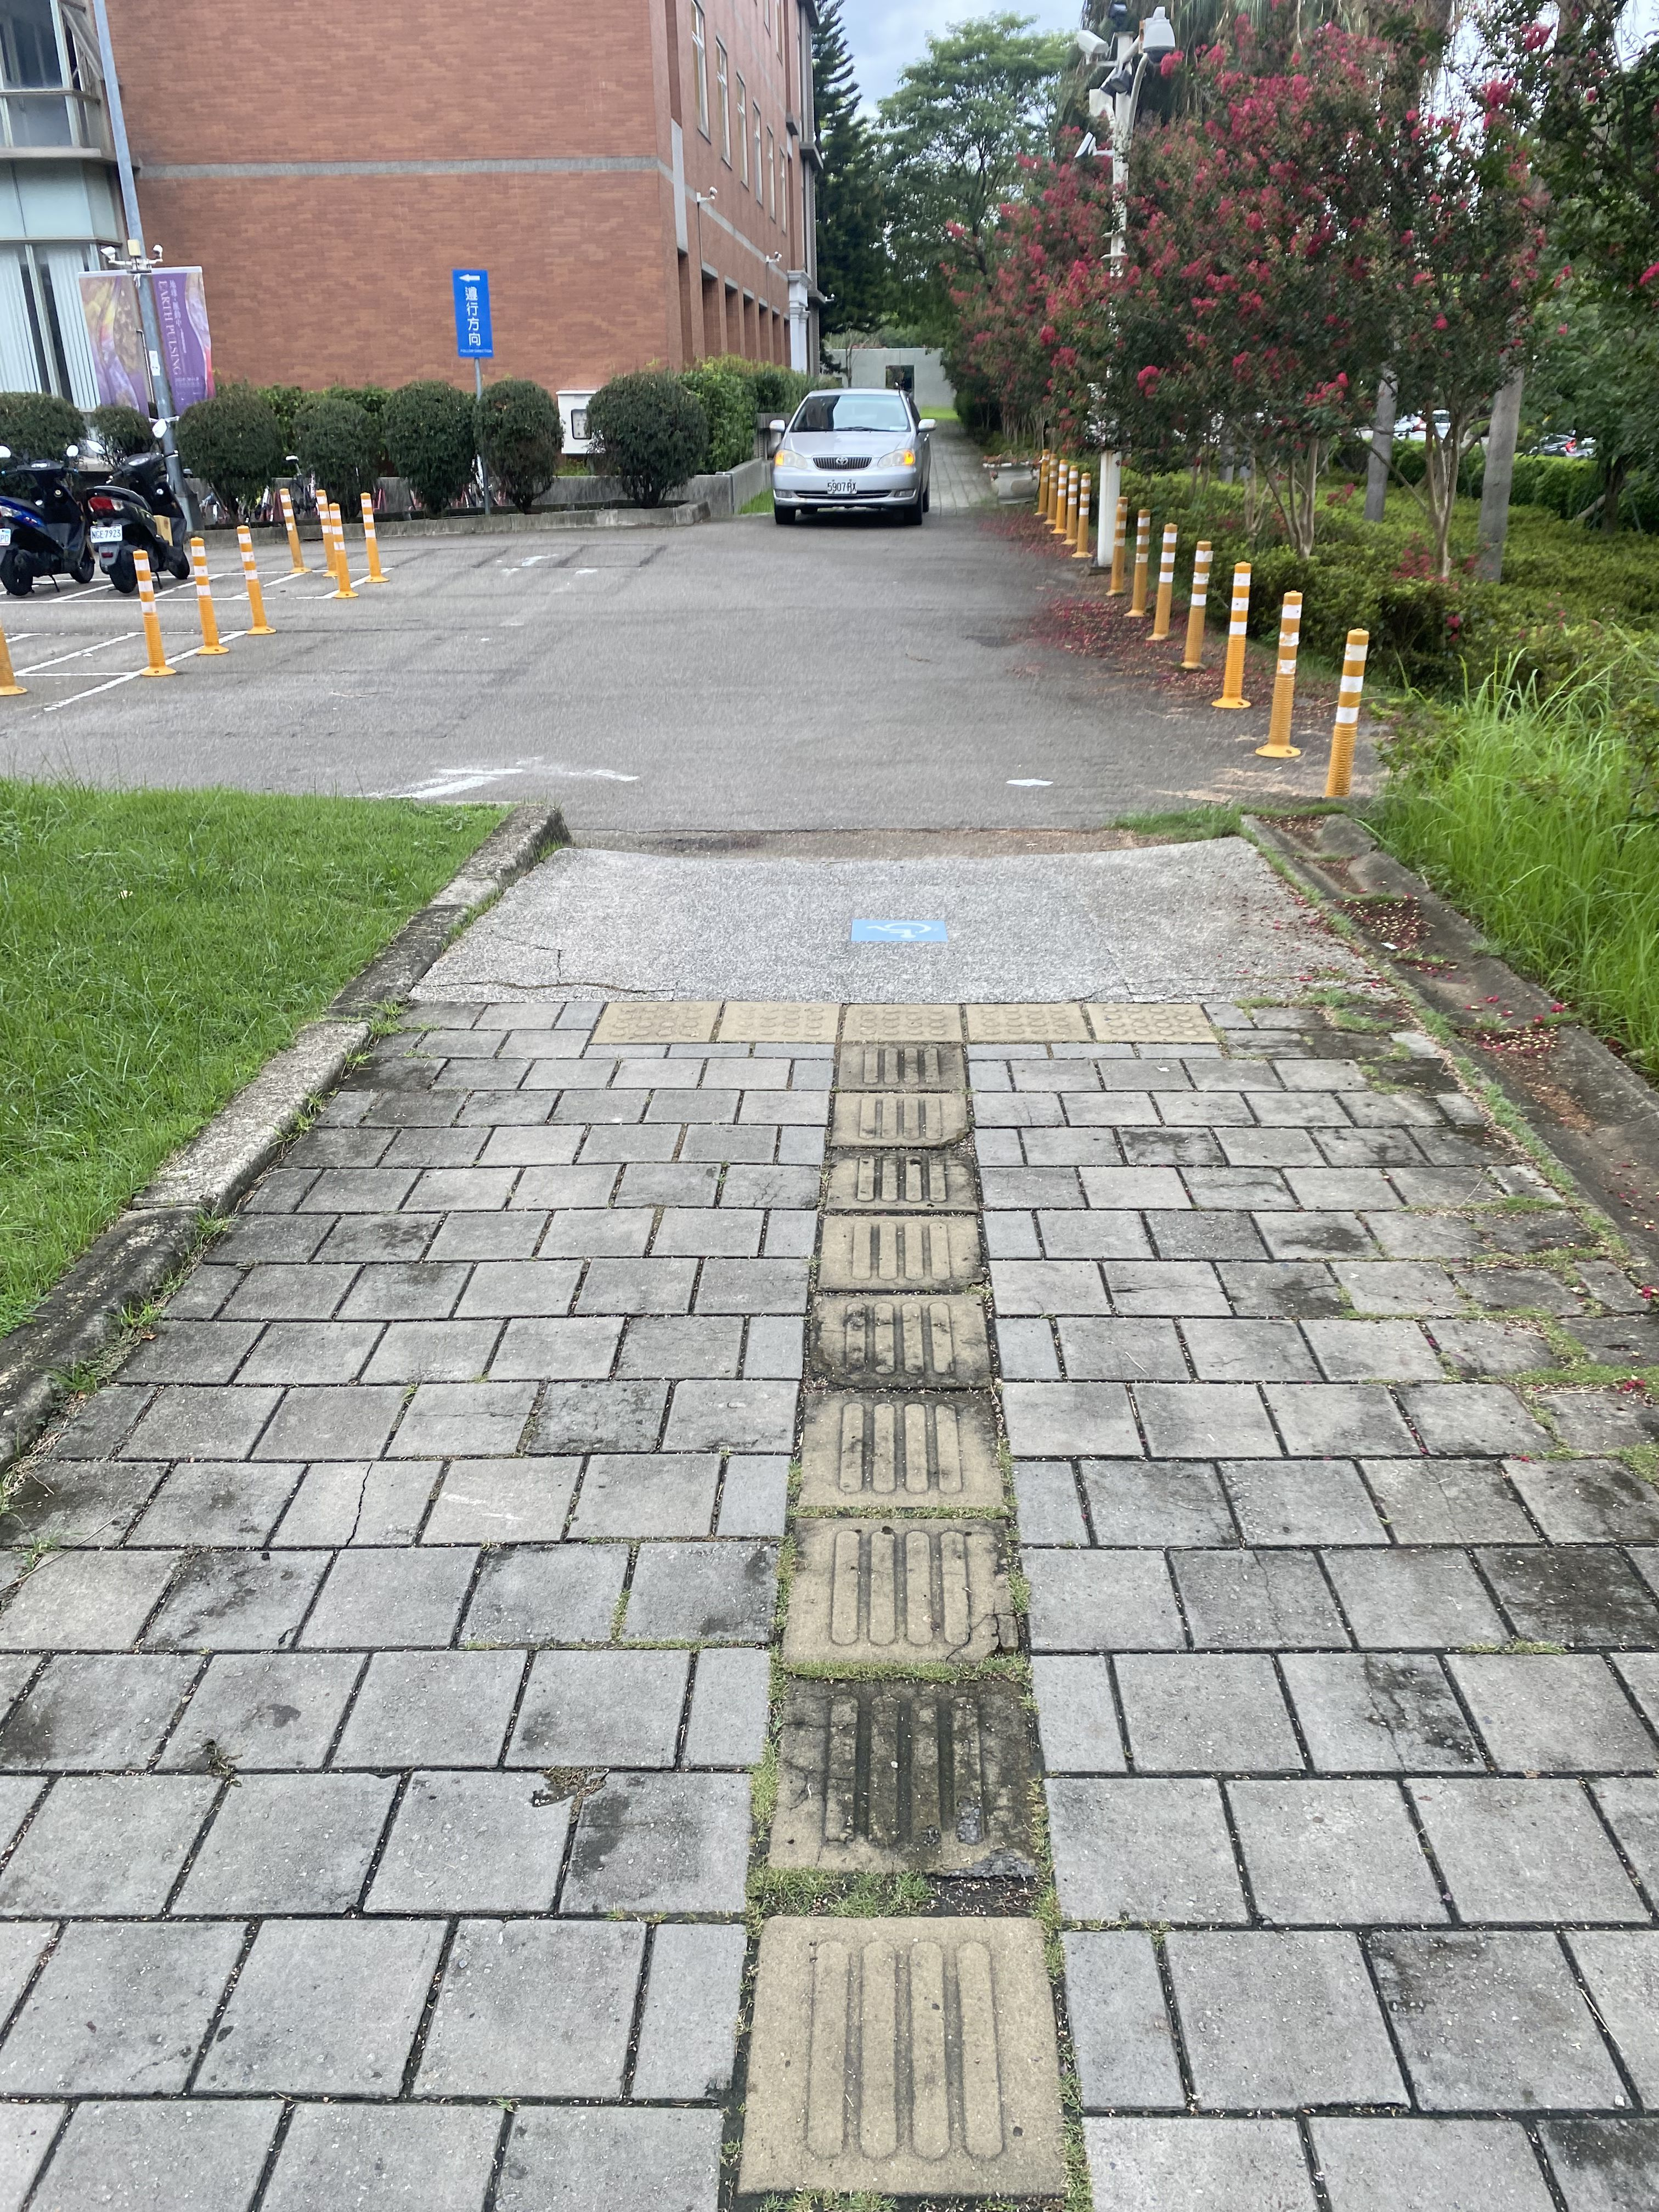0: (0, 817, 1659, 2212)
sidewalk: (714, 402, 1227, 1106)
